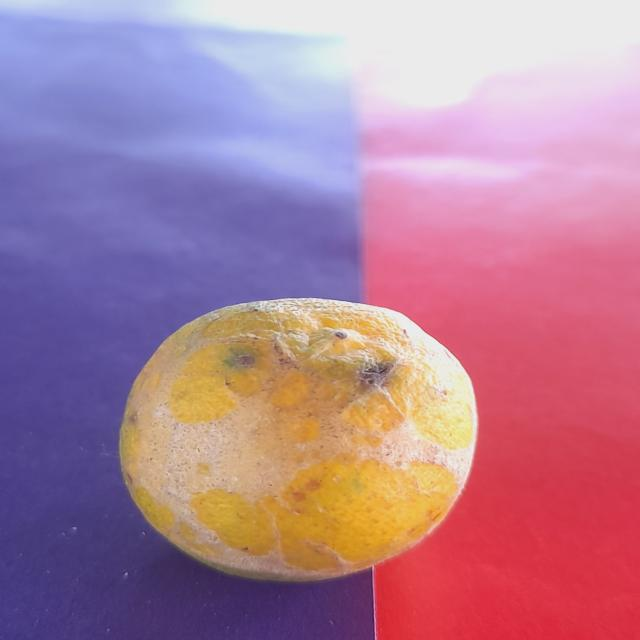thrips: (111, 298, 476, 579)
